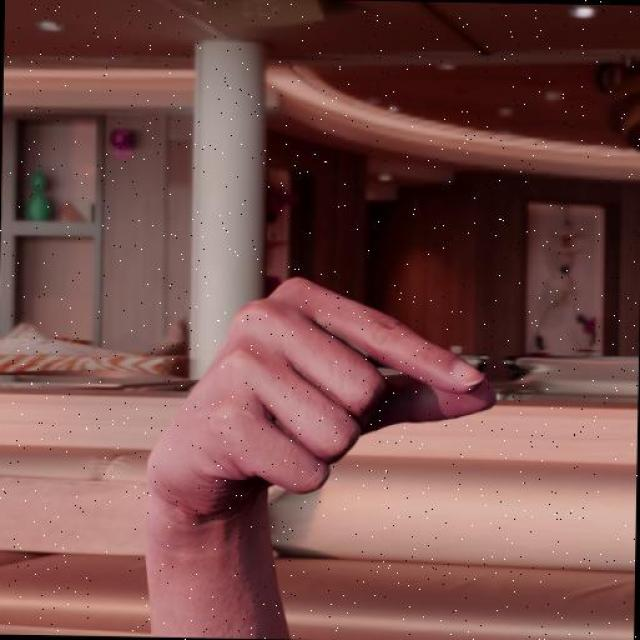G: (145, 274, 501, 532)
